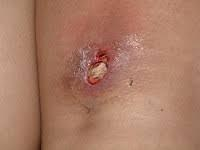Spider: (52, 25, 156, 112)
